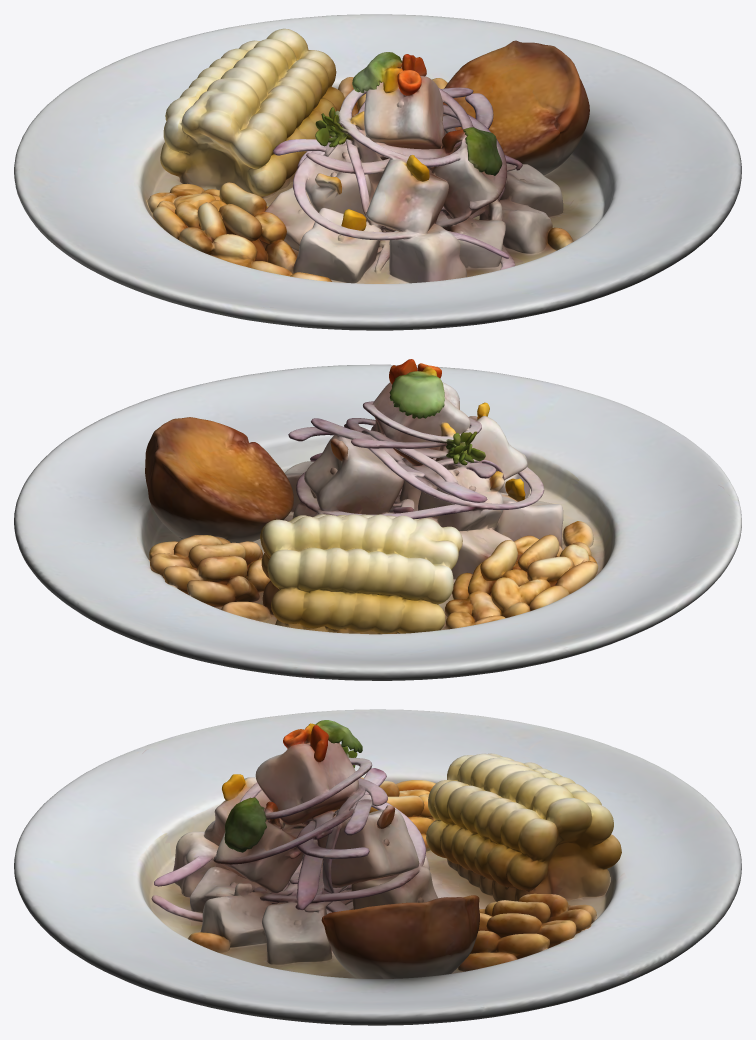
The model's file is ceviche.glb.
The picture shows the model from 3 angles, top to bottom: view 1: azimuth 30°, elevation 25°; view 2: azimuth 150°, elevation 25°; view 3: azimuth 270°, elevation 25°; orthographic projection.
Visible parts, largest first — view 1: tripo_node_e489c5fd-1ee5-4dc7-bd5e-226796156953; view 2: tripo_node_e489c5fd-1ee5-4dc7-bd5e-226796156953; view 3: tripo_node_e489c5fd-1ee5-4dc7-bd5e-226796156953.
Boxes of the visible parts, x1=… form: tripo_node_e489c5fd-1ee5-4dc7-bd5e-226796156953: x1=14, y1=14, x2=741, y2=330; tripo_node_e489c5fd-1ee5-4dc7-bd5e-226796156953: x1=14, y1=359, x2=741, y2=680; tripo_node_e489c5fd-1ee5-4dc7-bd5e-226796156953: x1=14, y1=709, x2=741, y2=1025.
Bounding box in the file's own units: 0.9998 × 0.295 × 1.
1 material, 1 textured.
